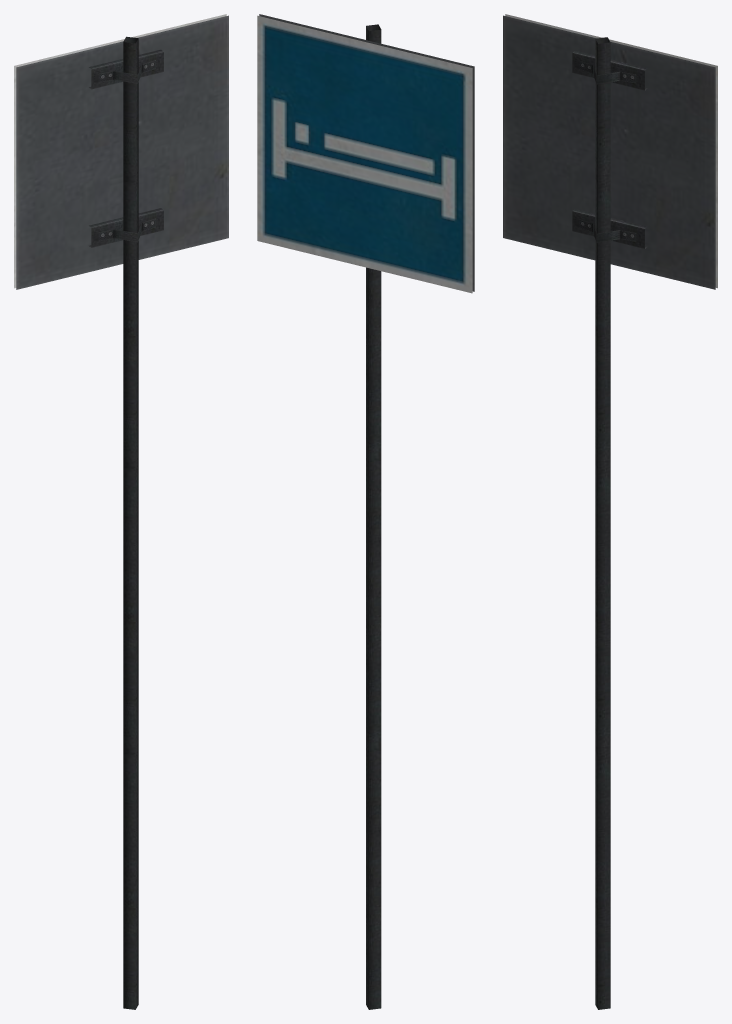
The model's file is Motel.glb.
3 views of the same model, side by side, from view 1: azimuth 30°, elevation 25°; view 2: azimuth 150°, elevation 25°; view 3: azimuth 330°, elevation 25° (orthographic).
Parts seen in each view (by area): view 1: Motel__LOD1; view 2: Motel__LOD1; view 3: Motel__LOD1.
Boxes of the visible parts, x1=… form: Motel__LOD1: x1=14, y1=14, x2=228, y2=1009; Motel__LOD1: x1=257, y1=14, x2=474, y2=1009; Motel__LOD1: x1=503, y1=14, x2=717, y2=1009.
Size of the model in its own units: 0.6891 by 2.99 by 0.0909.
1 material, 1 textured.
